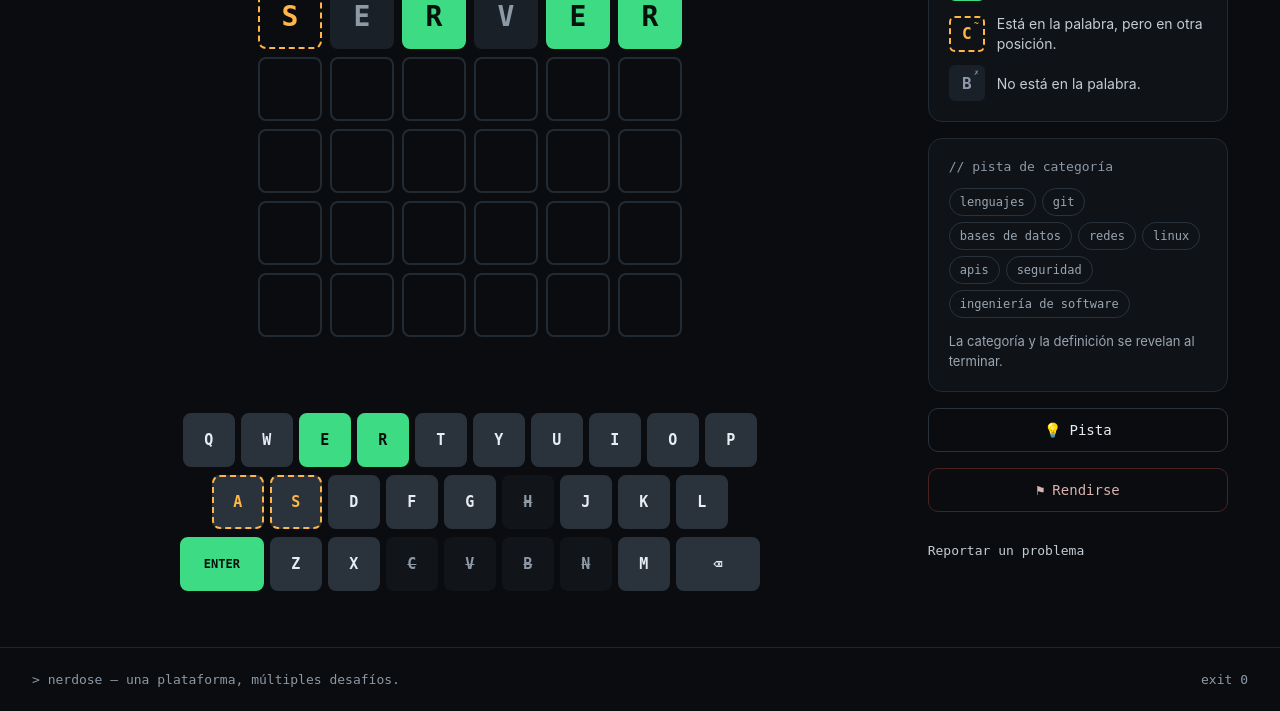
abrir el diálogo › TS-5: desde la partida muestra el aviso, el select vacío y el contador
(page scrolled)
Click the button "Reportar un problema" at (1078, 550), box x1=928 y1=528 x2=1228 y2=572
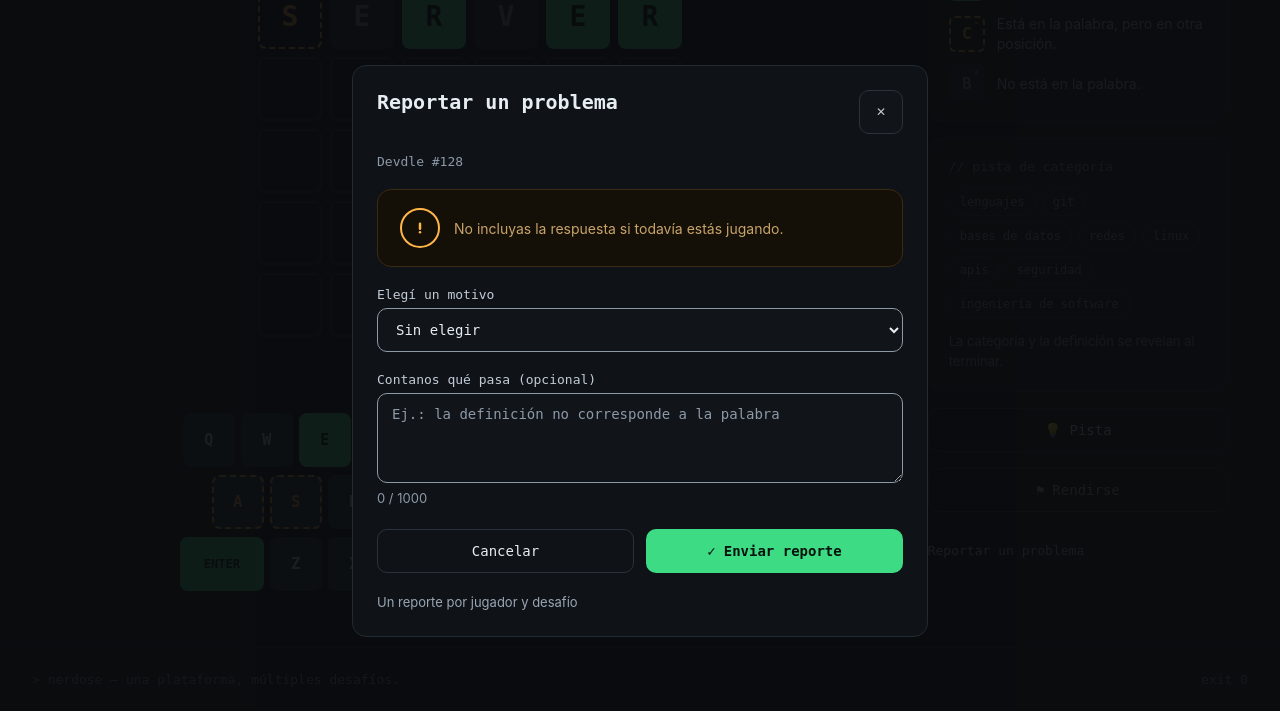
Now the heading "Reportar un problema" is shown, box x1=377 y1=90 x2=618 y2=114
Now the text "Devdle #128" is shown, box x1=377 y1=154 x2=463 y2=169
Now the text "No incluyas la respuesta si todavía estás jugando." is shown, box x1=454 y1=220 x2=784 y2=236
